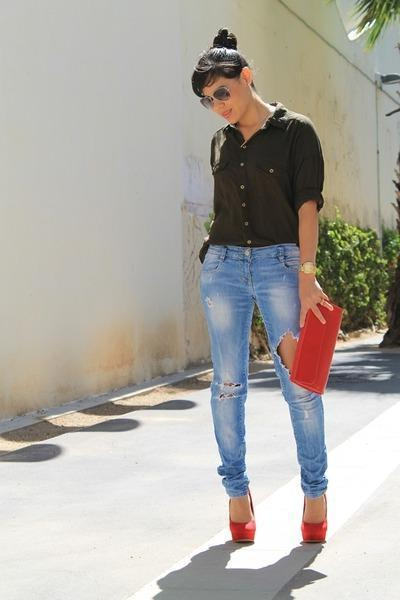short sleeve shirt: (200, 98, 326, 250)
trousers: (197, 244, 329, 494)
